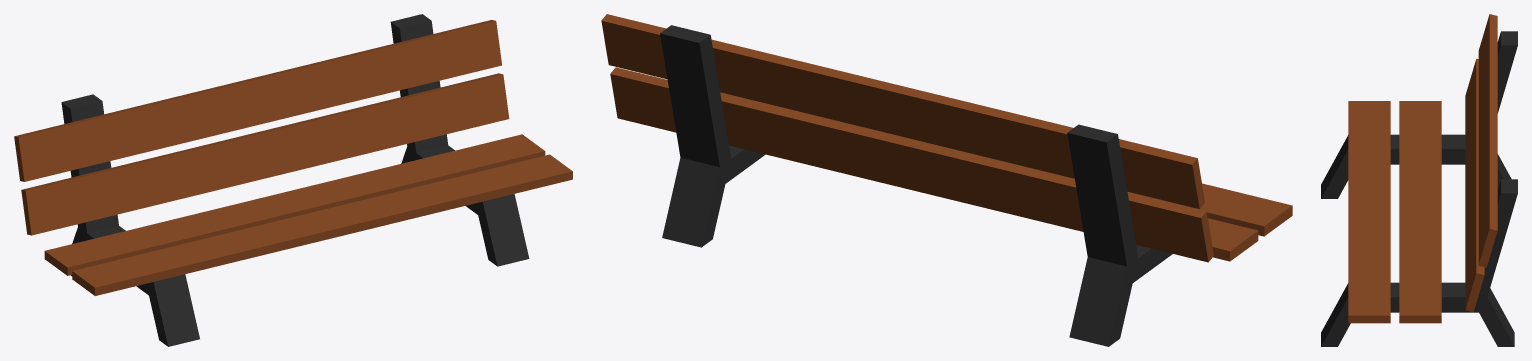
The model's file is Bench.fbx.
3 views of the same model, side by side, from view 1: azimuth 30°, elevation 25°; view 2: azimuth 150°, elevation 25°; view 3: azimuth 270°, elevation 25° (orthographic). The views are drawn at different scales.
Parts seen in each view (by area): view 1: Cube.003; view 2: Cube.003; view 3: Cube.003.
Part boxes in pixels (<box>): Cube.003: <box>14,14,572,346</box>; Cube.003: <box>601,14,1292,346</box>; Cube.003: <box>1321,14,1517,346</box>.
Bounding box in the file's own units: 300 × 100 × 116.
